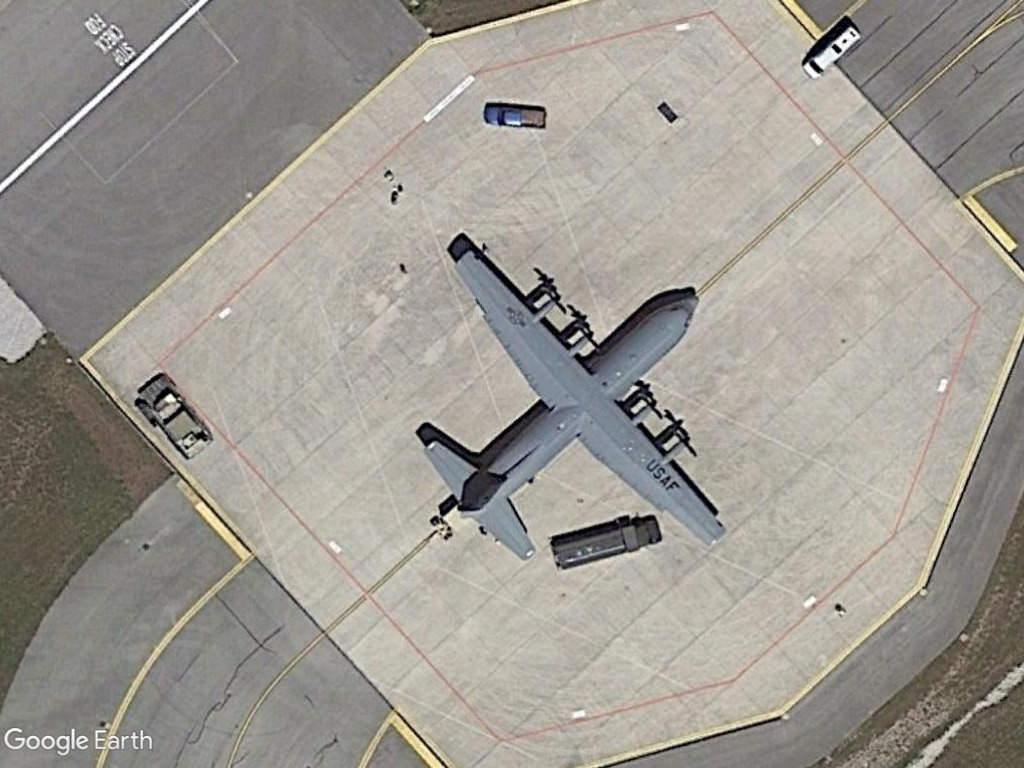other: (545, 504, 666, 580)
propeller: (397, 238, 731, 562)
truck: (479, 100, 553, 132)
van: (792, 20, 867, 84)
